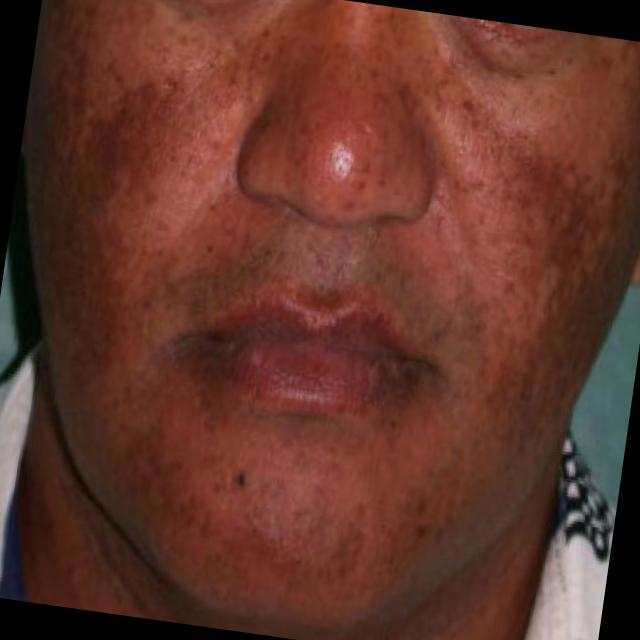melasma: (34, 0, 275, 410), (97, 389, 507, 613), (431, 64, 640, 491)
